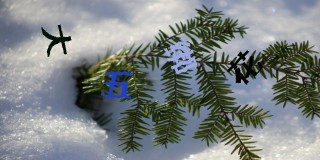五: (101, 71, 133, 100)
大: (40, 25, 72, 57)
绑: (165, 40, 199, 73)
花: (227, 50, 263, 84)
